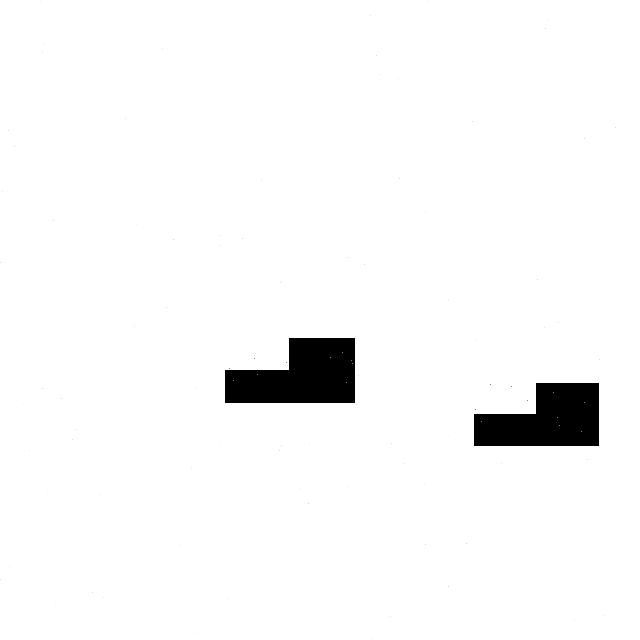weapon: (225, 370, 354, 435), (474, 414, 598, 476)
